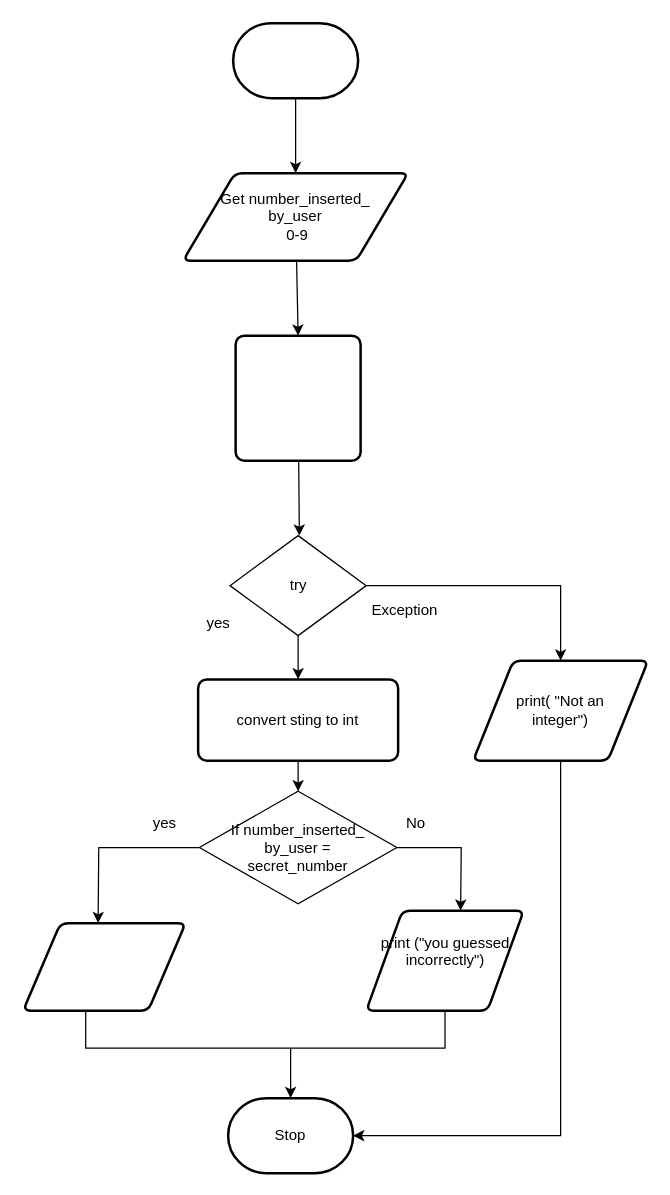
This 670x1195 diagram has some shape labels left out. The shapes that lost their labels are listed below. From the top down, each one's centre as x and y in pixels, then its label:
(x=295, y=60): Start
(x=297, y=397): Create a random number
(x=103, y=966): print ("you guessed correctly")
